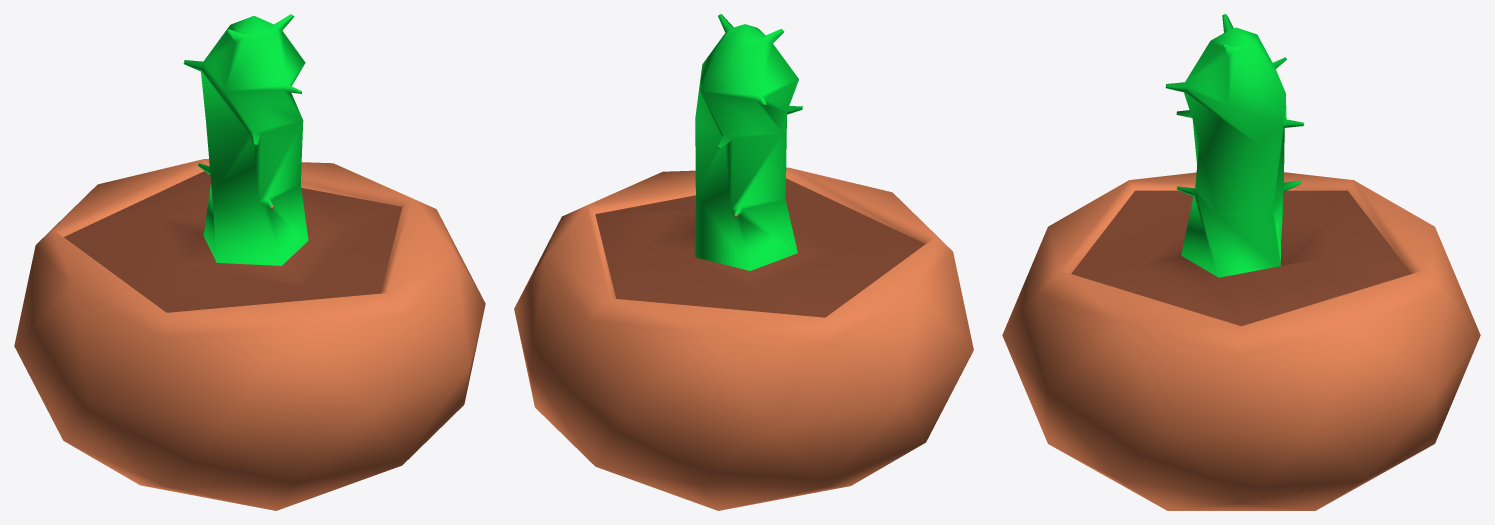
Rendered from Flower.fbx.
3 renders of one model, left to right at view 1: azimuth 30°, elevation 25°; view 2: azimuth 150°, elevation 25°; view 3: azimuth 270°, elevation 25°, orthographic. The views are drawn at different scales.
Parts seen in each view (by area): view 1: GardenFlower2; view 2: GardenFlower2; view 3: GardenFlower2.
Part boxes in pixels (x1,y1,x2,y2): GardenFlower2: (14, 14, 485, 510); GardenFlower2: (514, 14, 973, 510); GardenFlower2: (1002, 14, 1480, 510).
Bounding box in the file's own units: 37.08 × 40.45 × 38.99.
